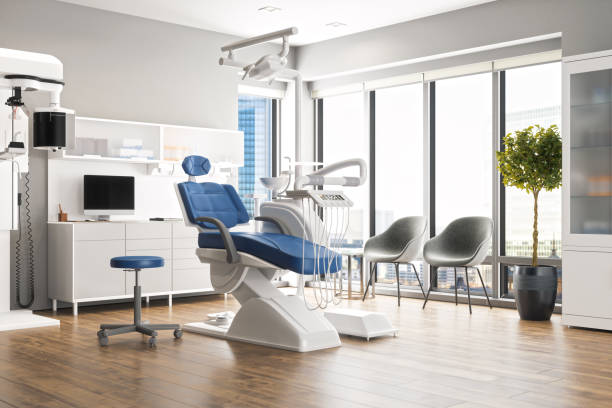cabinet: (561, 52, 611, 333), (65, 111, 248, 168)
chair: (97, 250, 184, 352), (418, 214, 496, 315), (362, 213, 433, 308)
computer: (82, 174, 137, 216)
exam_table: (171, 153, 344, 274)
surgical_light: (242, 55, 289, 86)
